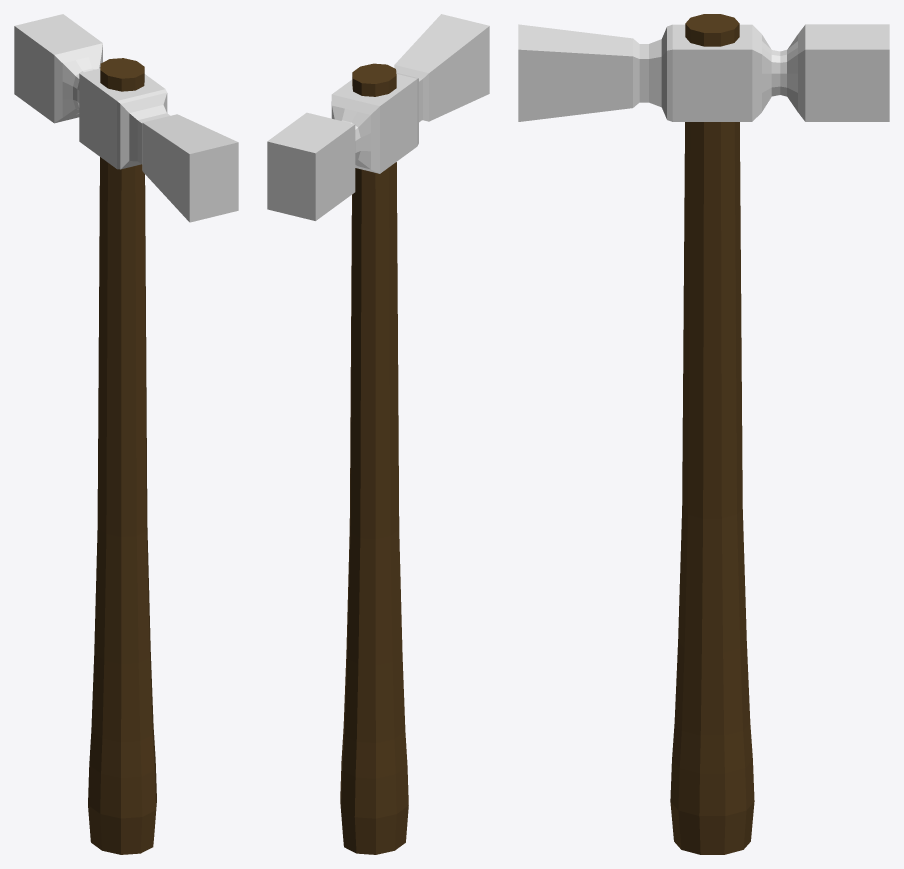
File: hammer_beemboom.glb
3 views of the same model, side by side, from view 1: azimuth 30°, elevation 25°; view 2: azimuth 150°, elevation 25°; view 3: azimuth 270°, elevation 25° (orthographic). The views are drawn at different scales.
Parts seen in each view (by area): view 1: hammer_beemboom; view 2: hammer_beemboom; view 3: hammer_beemboom.
Boxes of the visible parts, <box> form: hammer_beemboom: <box>14,14,238,854</box>; hammer_beemboom: <box>267,14,489,854</box>; hammer_beemboom: <box>518,14,889,854</box>.
Bounding box in the file's own units: 107 × 1387 × 571.
